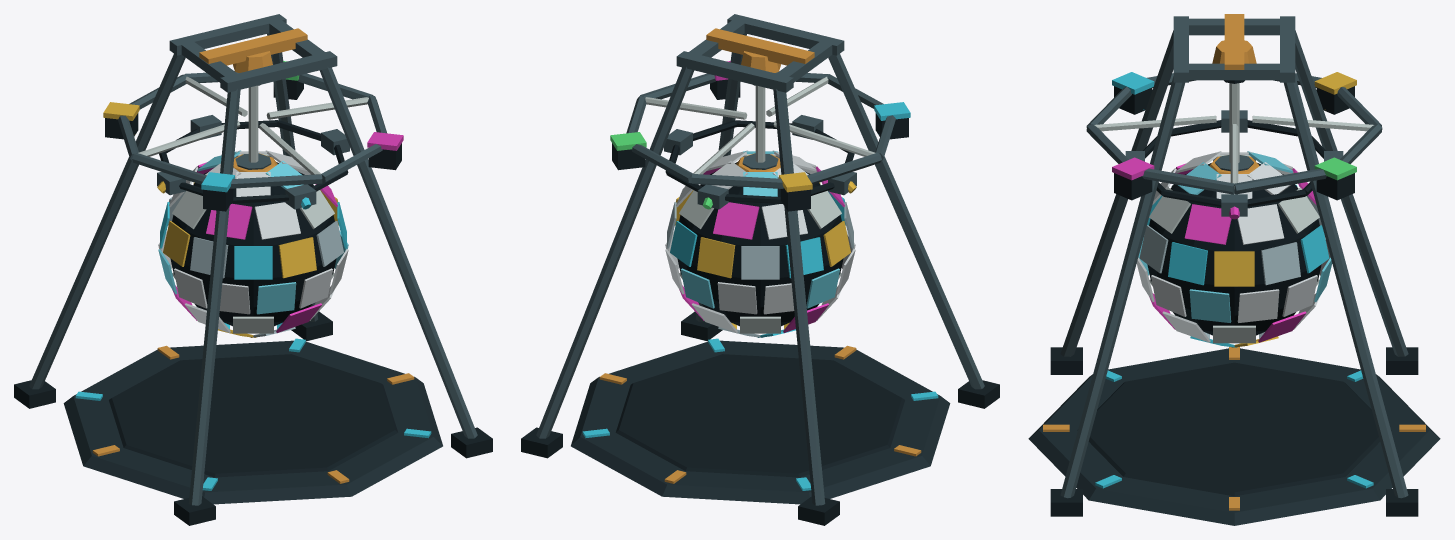
Rendered from disco_ball_d0_lod2.meshopt.glb.
3 views of the same model, side by side, from view 1: azimuth 30°, elevation 25°; view 2: azimuth 150°, elevation 25°; view 3: azimuth 270°, elevation 25° (orthographic). The views are drawn at different scales.
Visible parts, largest first — view 1: DISCO_STATIC_BODY; view 2: DISCO_STATIC_BODY; view 3: DISCO_STATIC_BODY.
Part boxes in pixels (x1=…): DISCO_STATIC_BODY: x1=14, y1=14, x2=492, y2=525; DISCO_STATIC_BODY: x1=521, y1=14, x2=999, y2=525; DISCO_STATIC_BODY: x1=1028, y1=14, x2=1440, y2=525.
Size of the model in its own units: 5.9 by 6.31 by 5.9.
